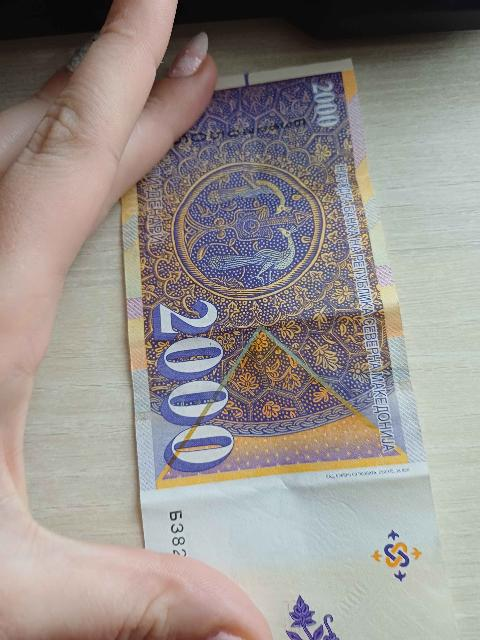2000_note: (123, 61, 454, 639)
